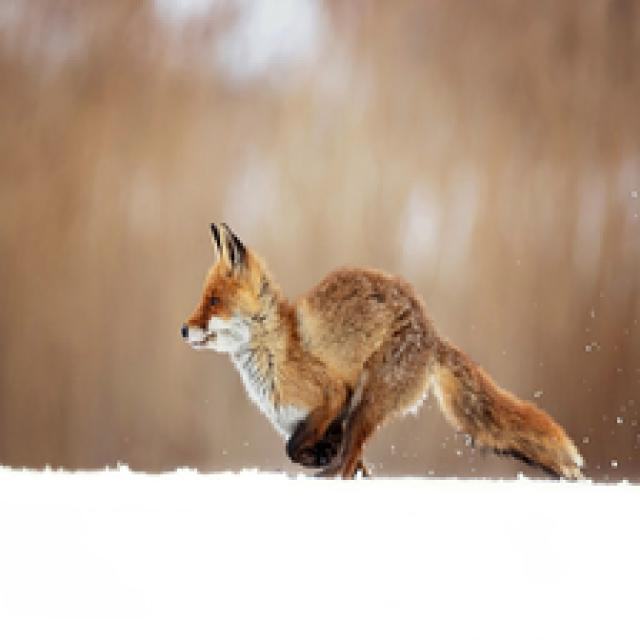fox: (171, 216, 595, 470)
